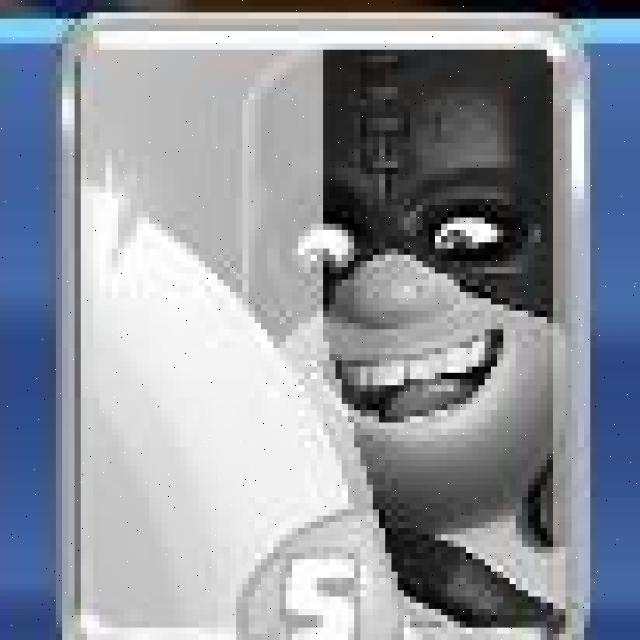Executioner: (56, 17, 588, 640)
